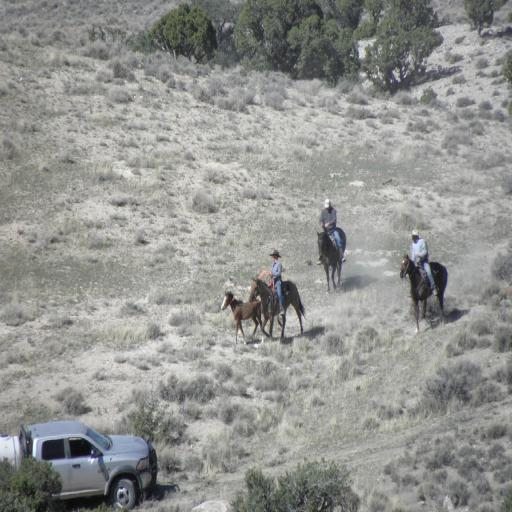horse: (398, 252, 450, 334), (246, 275, 308, 342), (220, 288, 264, 347), (316, 230, 348, 292)
